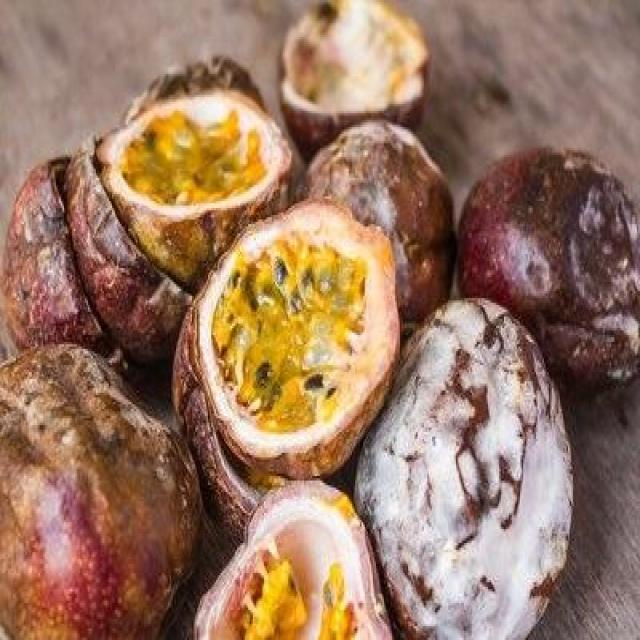Wet Waste: (1, 0, 638, 638)
